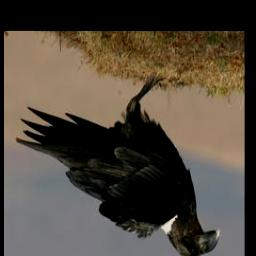Crow: (14, 70, 223, 256)
